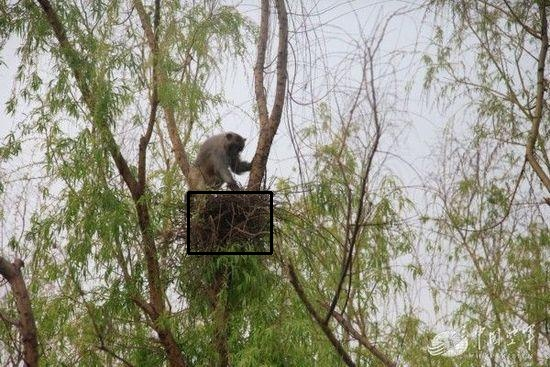bird-nest: (188, 192, 271, 253)
